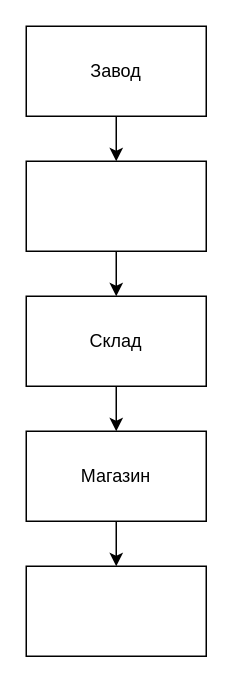
Image size: 233x683. Some labels were removed from this diagram. Here are the shapes that lost their labels. From the top down, the centre of each, then its label:
point (115, 205): Поставщик
point (115, 610): Сделка
